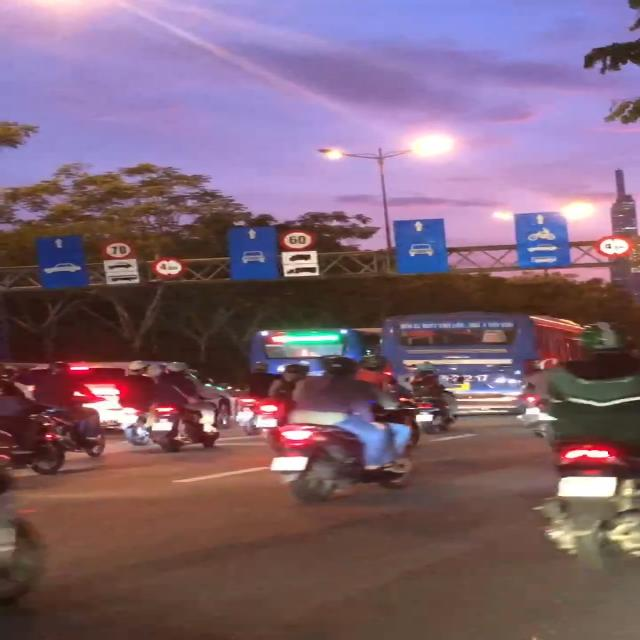Bien bao han che chieu cao: (148, 258, 184, 277)
Bien bao toc do toi da cho phep: (98, 240, 139, 260), (279, 228, 315, 250)
